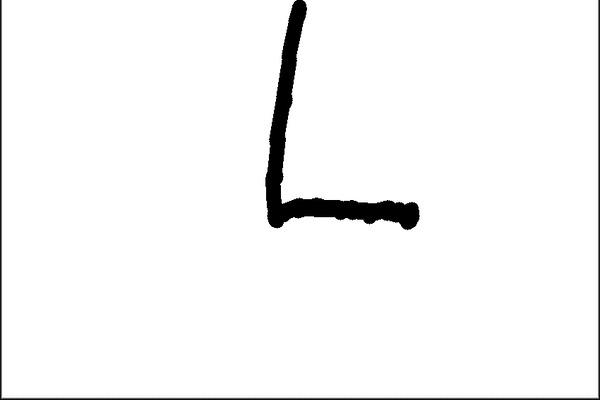L: (258, 0, 425, 240)
